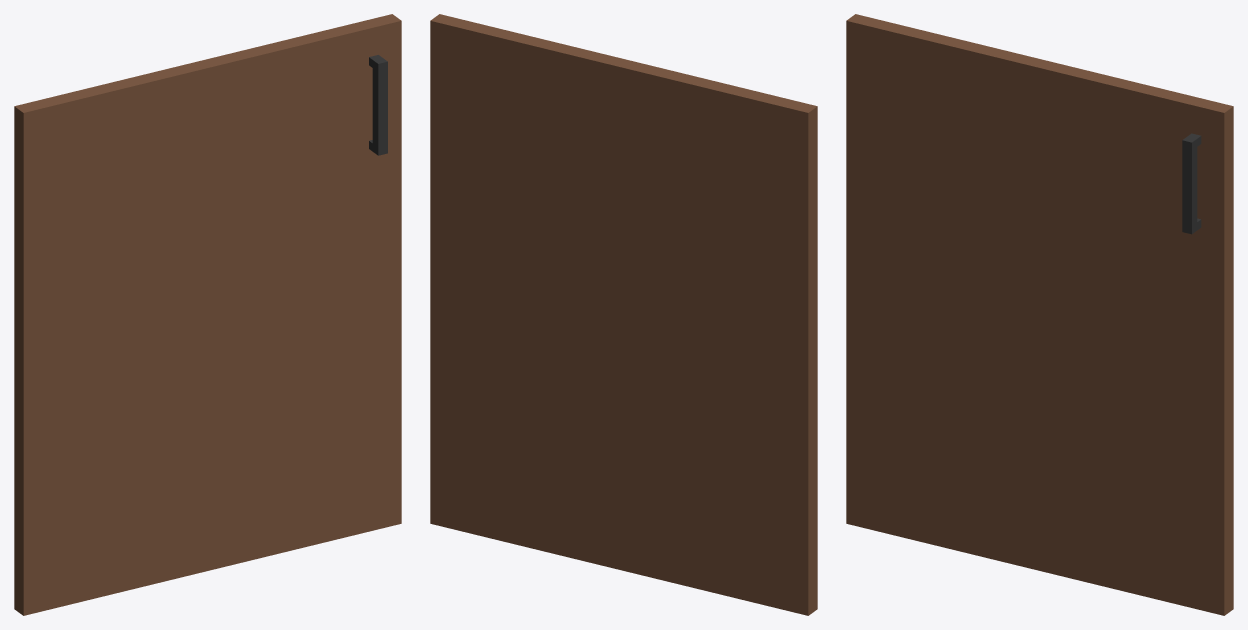
Rendered from Door1_C2_02.fbx.
3 renders of one model, left to right at view 1: azimuth 30°, elevation 25°; view 2: azimuth 150°, elevation 25°; view 3: azimuth 330°, elevation 25°, orthographic.
Visible parts, largest first — view 1: Door1_C2_02; view 2: Door1_C2_02; view 3: Door1_C2_02.
Part boxes in pixels (box(x1,y1,x2,y2)): Door1_C2_02: box(14, 14, 401, 615); Door1_C2_02: box(430, 14, 817, 615); Door1_C2_02: box(846, 14, 1233, 615).
Size of the model in its own units: 59 by 75 by 5.03.
